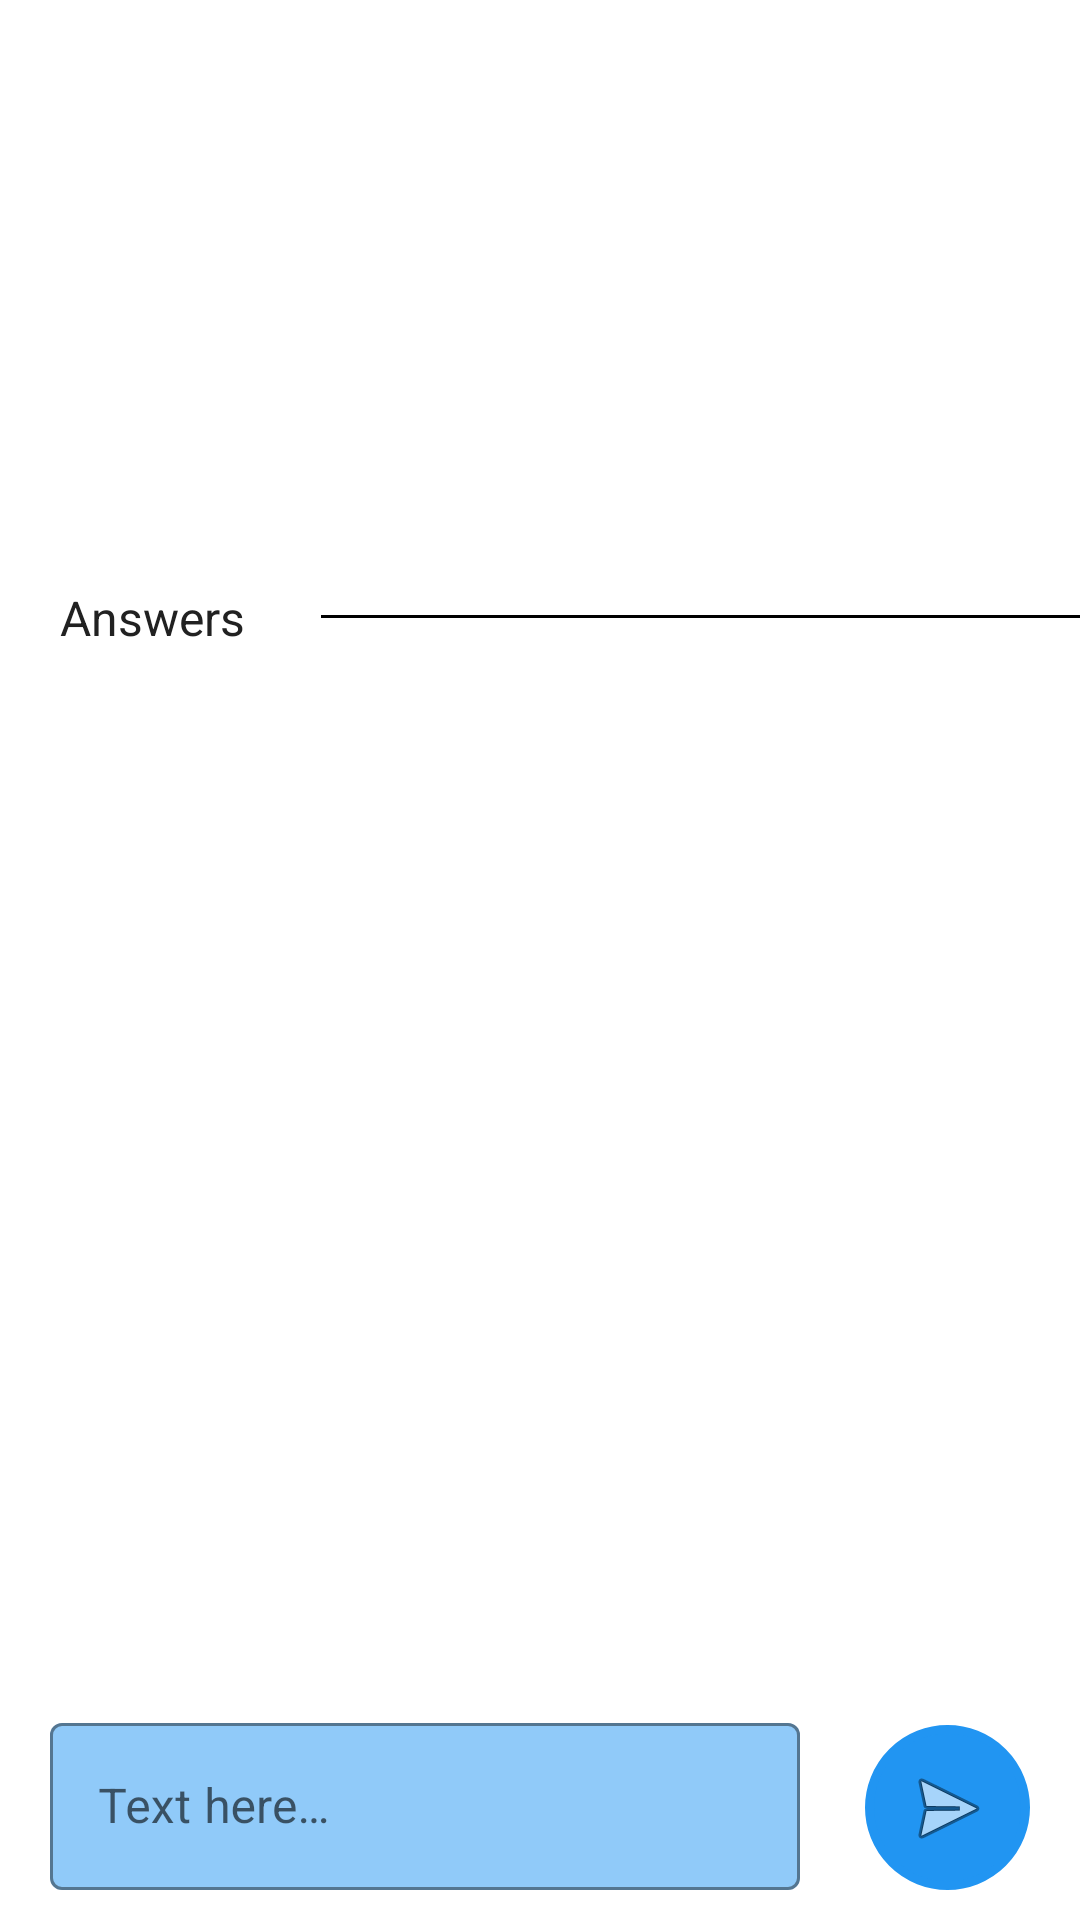

Screen size 1080px x 1920px. Icon name, then its box in pixels as bbox(x1, y1, x2, y2):
to send the message to the thread: bbox(865, 1725, 1030, 1890)
